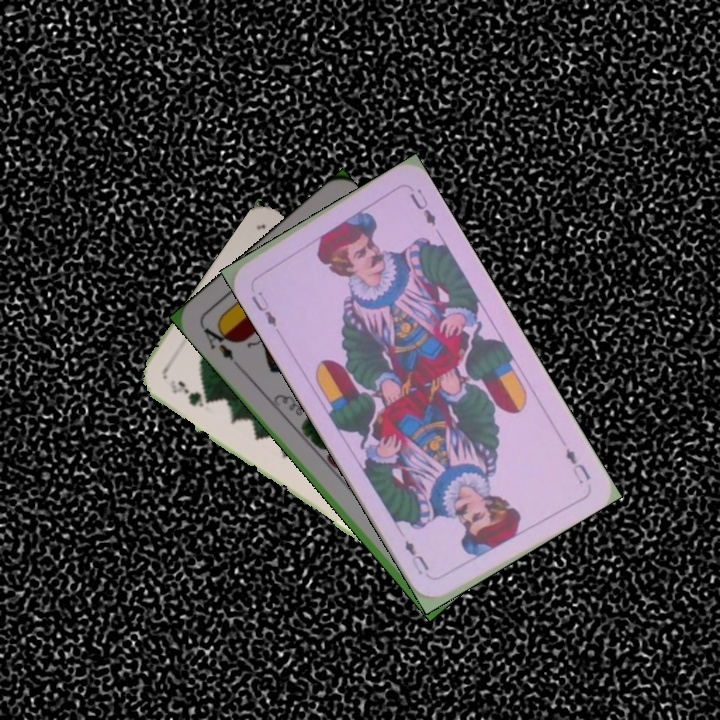EA: (198, 320, 242, 369)
EU: (247, 287, 280, 330), (561, 444, 594, 487)
G9: (165, 375, 212, 410)
